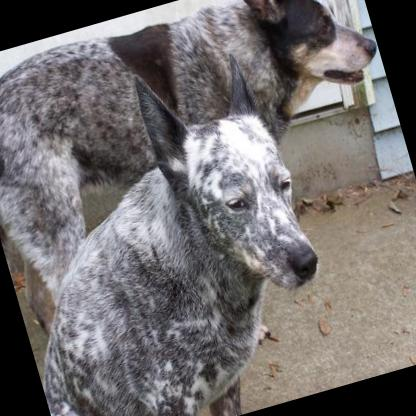kelpie: (0, 0, 416, 340), (0, 48, 352, 416)
